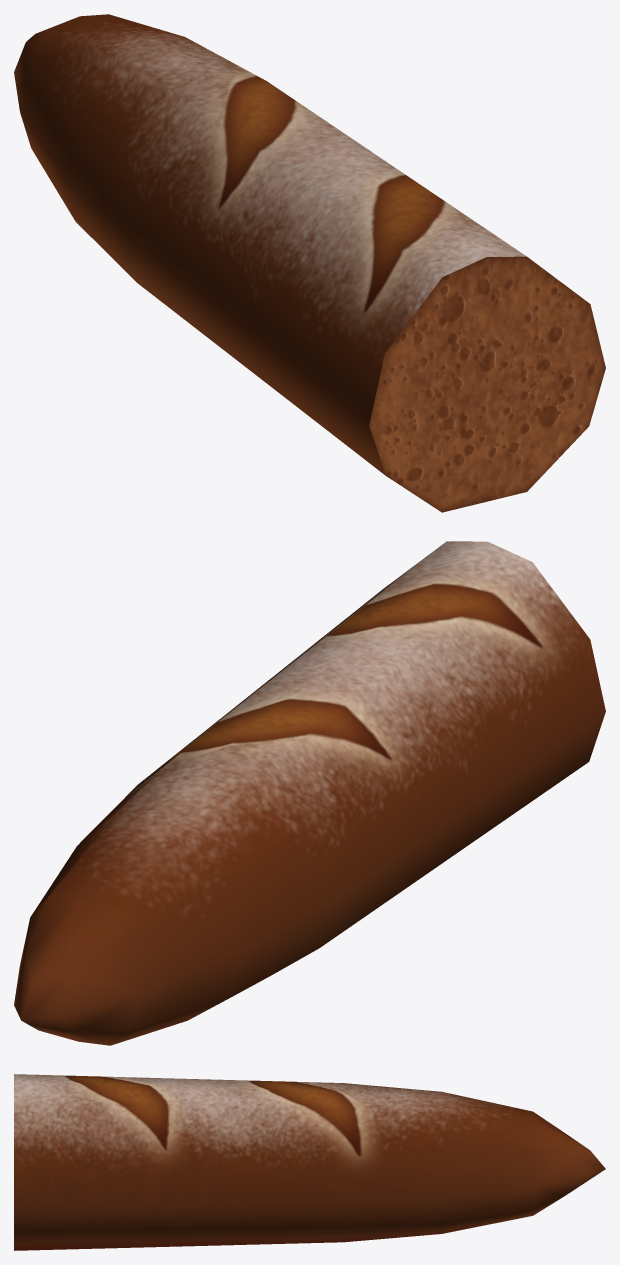
File: Baguette_03_Half.fbx
3 renders of one model, top to bottom at view 1: azimuth 30°, elevation 25°; view 2: azimuth 150°, elevation 25°; view 3: azimuth 270°, elevation 25°, orthographic. The views are drawn at different scales.
Parts seen in each view (by area): view 1: Baguette_03_Half; view 2: Baguette_03_Half; view 3: Baguette_03_Half.
Part boxes in pixels (x1,y1,x2,y2): Baguette_03_Half: (14, 14, 605, 512); Baguette_03_Half: (14, 541, 605, 1045); Baguette_03_Half: (14, 1074, 605, 1250).
Size of the model in its own units: 20.27 by 20 by 68.71.
